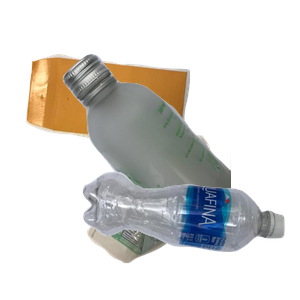glass: (60, 51, 300, 231)
paper: (23, 51, 206, 189)
plastic: (80, 169, 300, 300)
trash: (84, 133, 292, 300)
